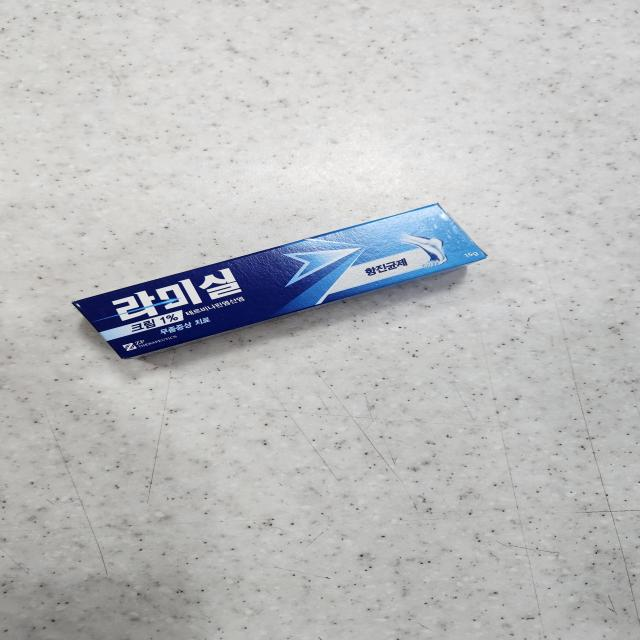box: (73, 204, 486, 358)
